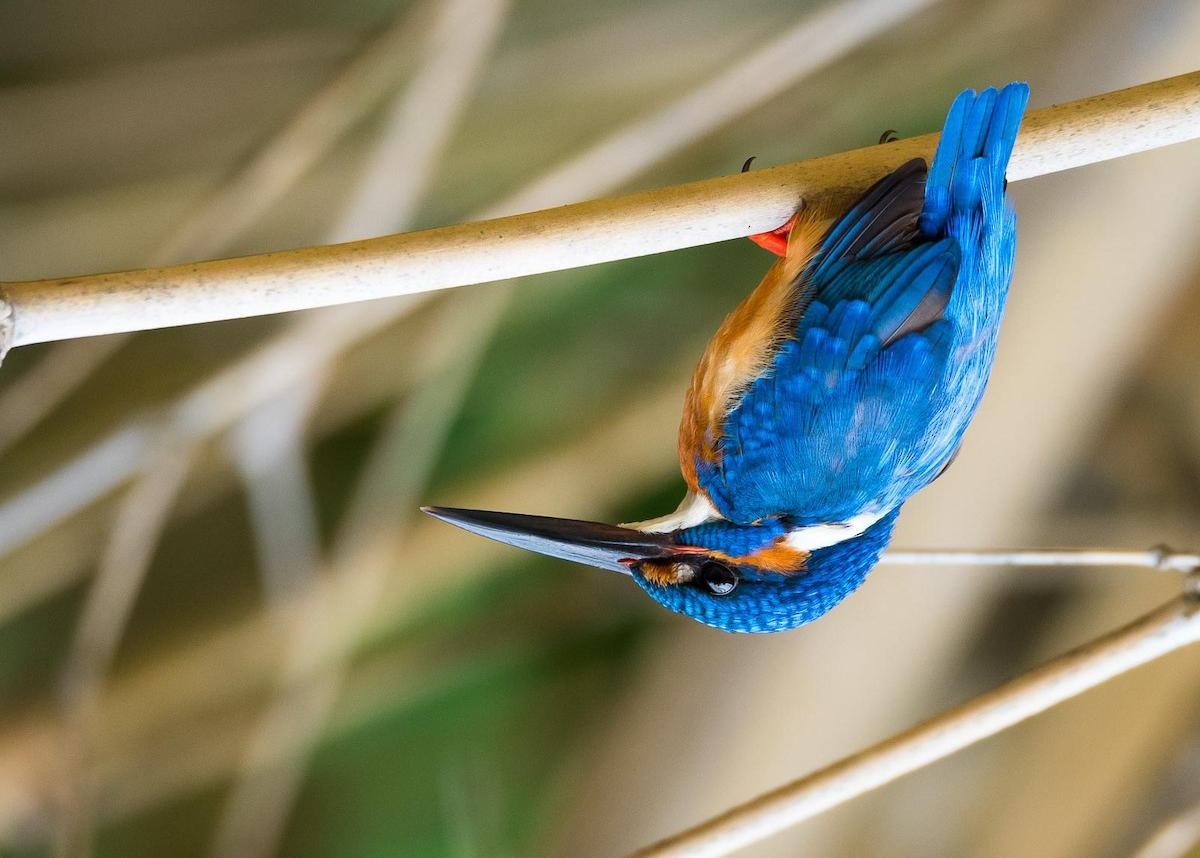kingfisher: (408, 69, 1062, 637)
